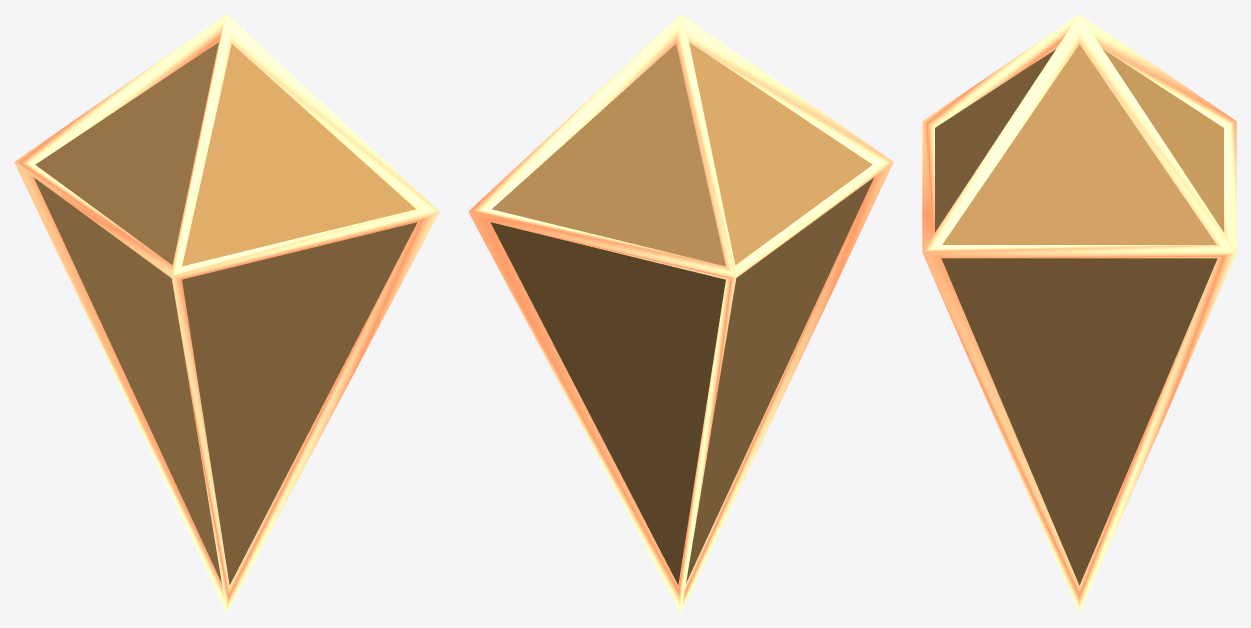
The picture shows the model from 3 angles, left to right: view 1: azimuth 30°, elevation 25°; view 2: azimuth 150°, elevation 25°; view 3: azimuth 270°, elevation 25°; orthographic projection.
Parts seen in each view (by area): view 1: pasted__pCube1, pCube1; view 2: pasted__pCube1, pCube1; view 3: pasted__pCube1, pCube1.
Boxes of the visible parts, left/top/right/bottom form: pasted__pCube1: left=34, top=42, right=417, bottom=584; pCube1: left=14, top=14, right=439, bottom=613; pasted__pCube1: left=490, top=42, right=873, bottom=584; pCube1: left=468, top=14, right=893, bottom=613; pasted__pCube1: left=935, top=44, right=1223, bottom=585; pCube1: left=922, top=14, right=1236, bottom=613.
Bounding box in the file's own units: 22.9 × 48.96 × 23.27.
